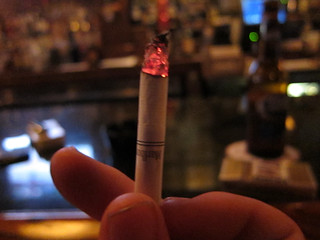cigarette: (132, 26, 174, 205)
